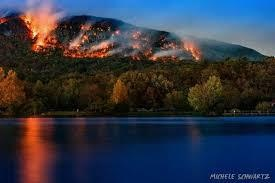fire: (3, 7, 61, 50), (130, 33, 204, 62)
